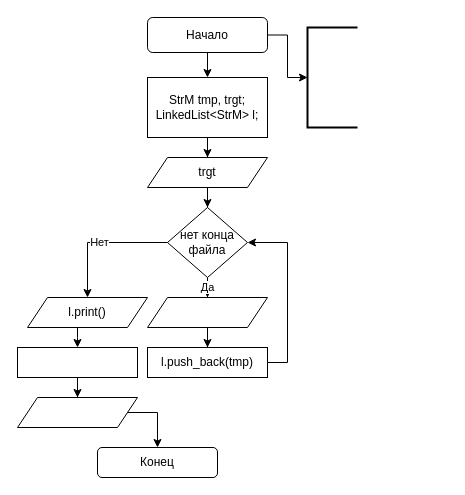
Some shapes in this 465 by 495 pixel diagram are drawn without their labels. Each missing label, with the centre of its shape:
"int res = l.find(trgt);" goes at (x=77, y=362).
"res" goes at (x=77, y=412).
"tmp" goes at (x=207, y=312).
"void process_data(in, out)" goes at (x=332, y=77).
